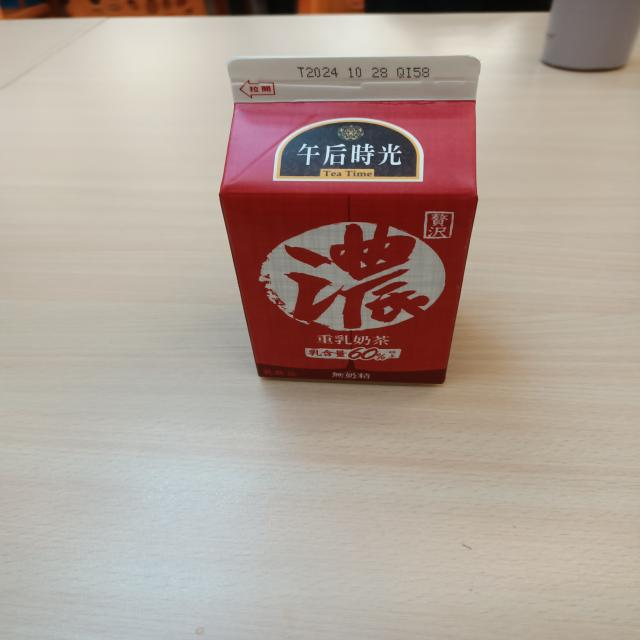Known_MilkTea: (209, 46, 477, 398)
